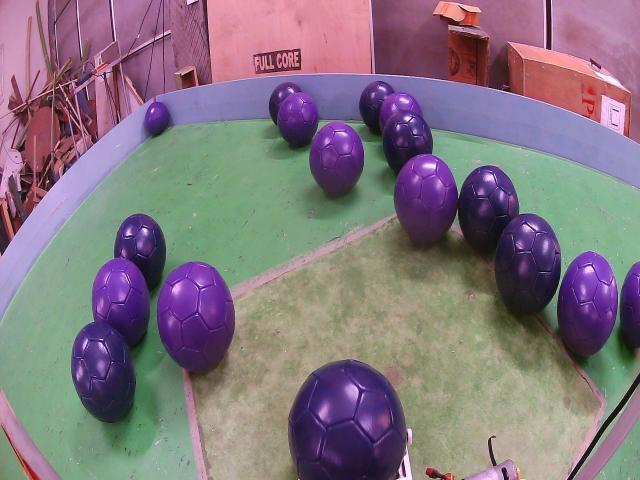jambhalya: (158, 262, 235, 372), (558, 252, 618, 357), (394, 153, 458, 243), (91, 257, 150, 347), (310, 122, 364, 193), (278, 92, 319, 147), (379, 92, 424, 132), (620, 262, 640, 348), (145, 102, 169, 135)
kaalyya: (288, 360, 408, 479), (495, 213, 561, 313), (71, 322, 136, 423), (458, 165, 519, 253), (114, 213, 166, 290), (382, 110, 432, 173), (359, 80, 394, 132), (269, 82, 301, 125)
